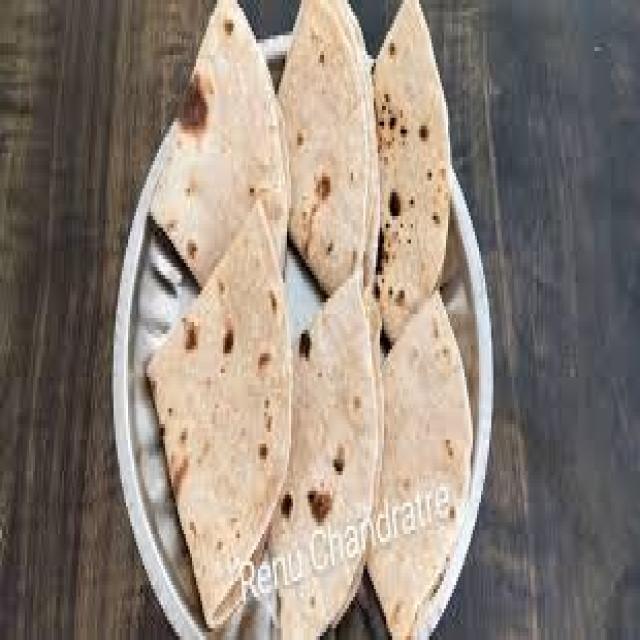ROTI: (148, 204, 291, 630), (266, 275, 383, 636), (152, 0, 288, 294), (369, 290, 475, 636), (282, 1, 377, 296), (370, 0, 448, 339)
